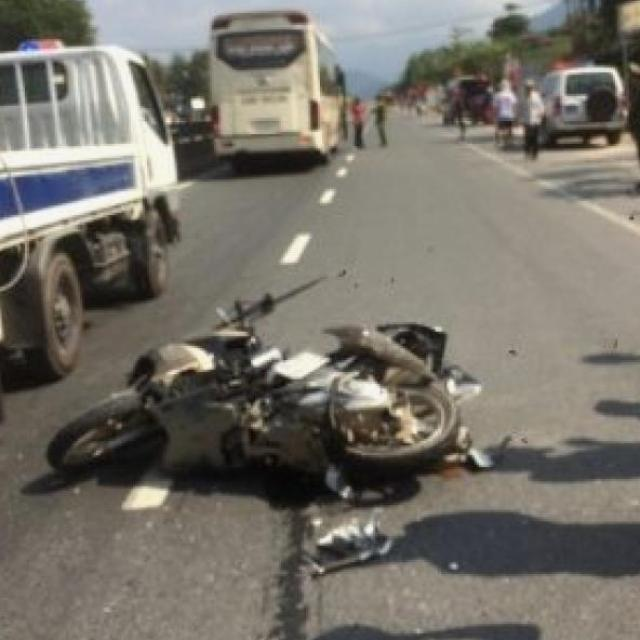accident: (50, 285, 498, 551)
